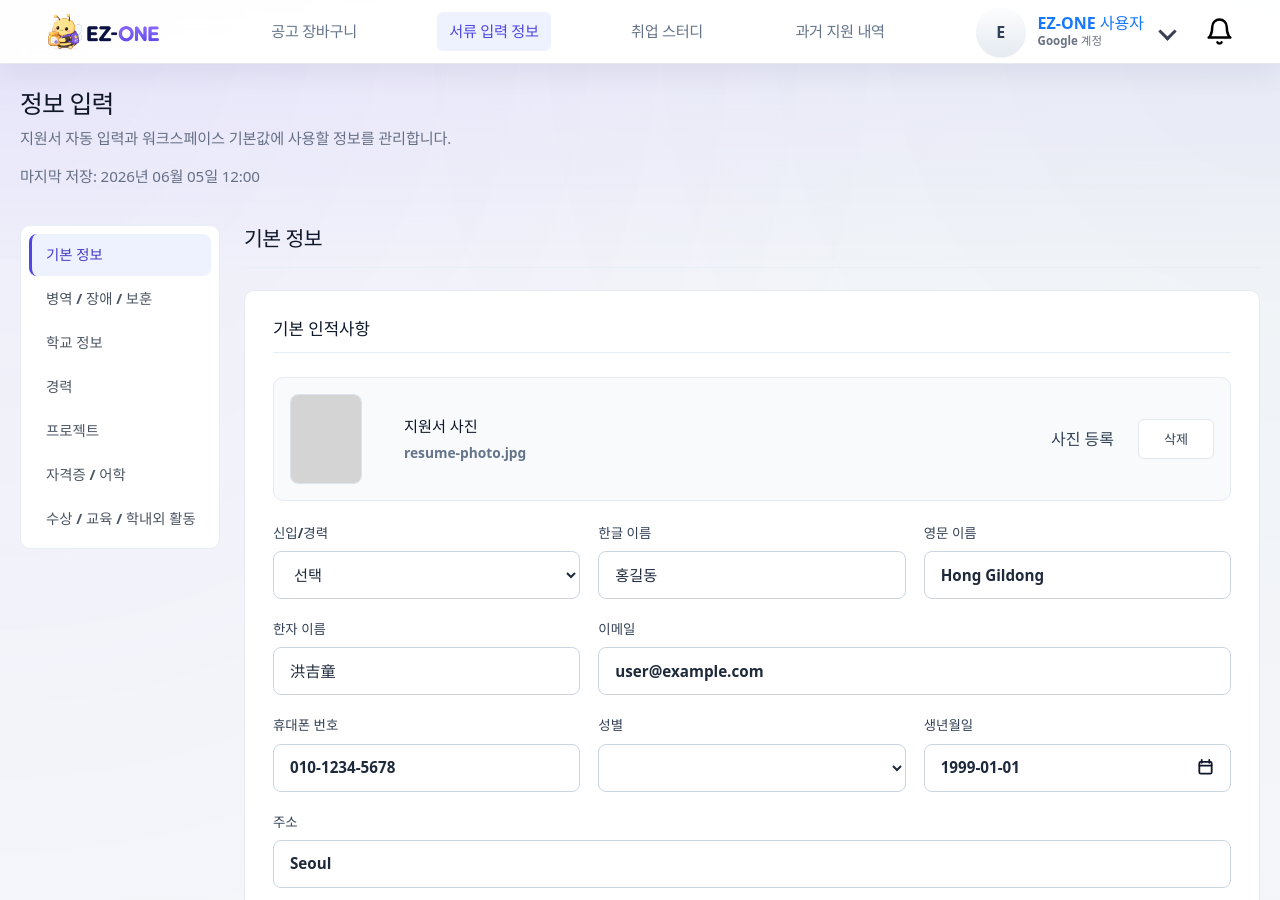
Test case: DocumentProfilePage › PROFILE-005/PROFILE-009: keeps failed saves visible with the API error message
Type "김지원" into the field with test id "basic-info-name".
click(752, 575); type("김지원")  # box x1=598 y1=551 x2=906 y2=599
(page scrolled)
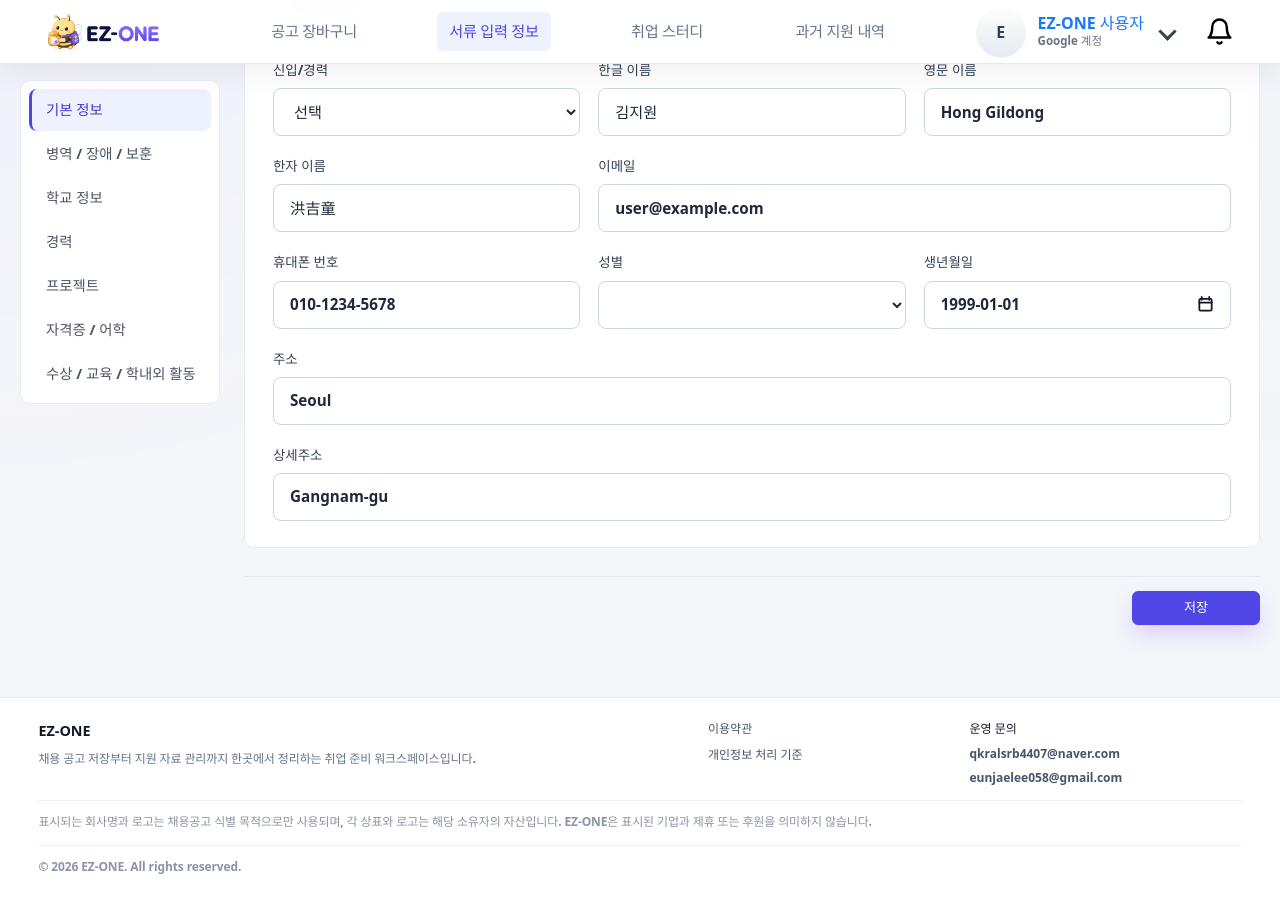
Click the button with test id "save-document-profile".
click(1196, 608)  # box x1=1132 y1=591 x2=1260 y2=625
(page scrolled)
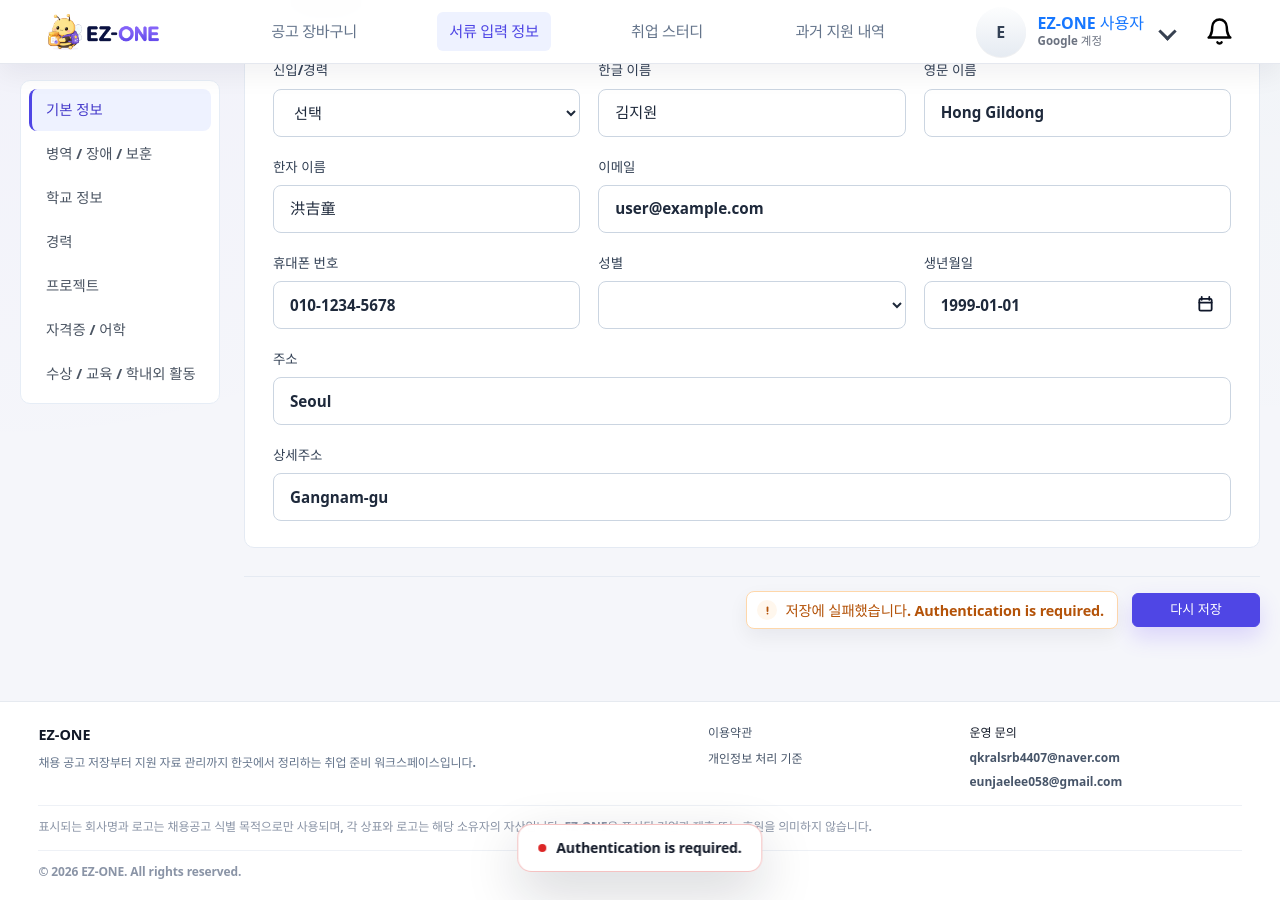
Expected: the button with test id "save-document-profile" reads "다시 저장", x1=1132 y1=593 x2=1260 y2=627
Expected: the element with test id "document-save-feedback" shows "저장에 실패했습니다", x1=785 y1=601 x2=1104 y2=620
Expected: the element with test id "document-save-feedback" shows "Authentication is required.", x1=785 y1=601 x2=1104 y2=620
